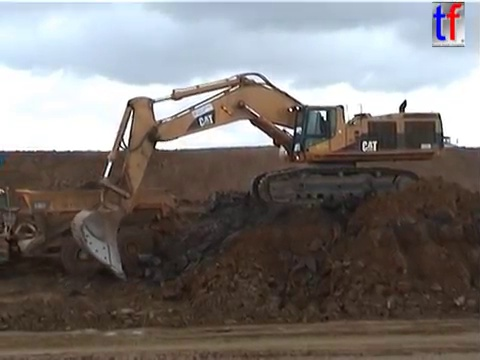excavator: (67, 69, 447, 285)
truck: (1, 183, 178, 278), (411, 134, 461, 158)
